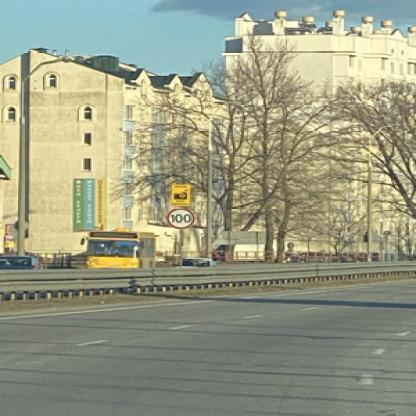speedlimit: (164, 205, 192, 228)
